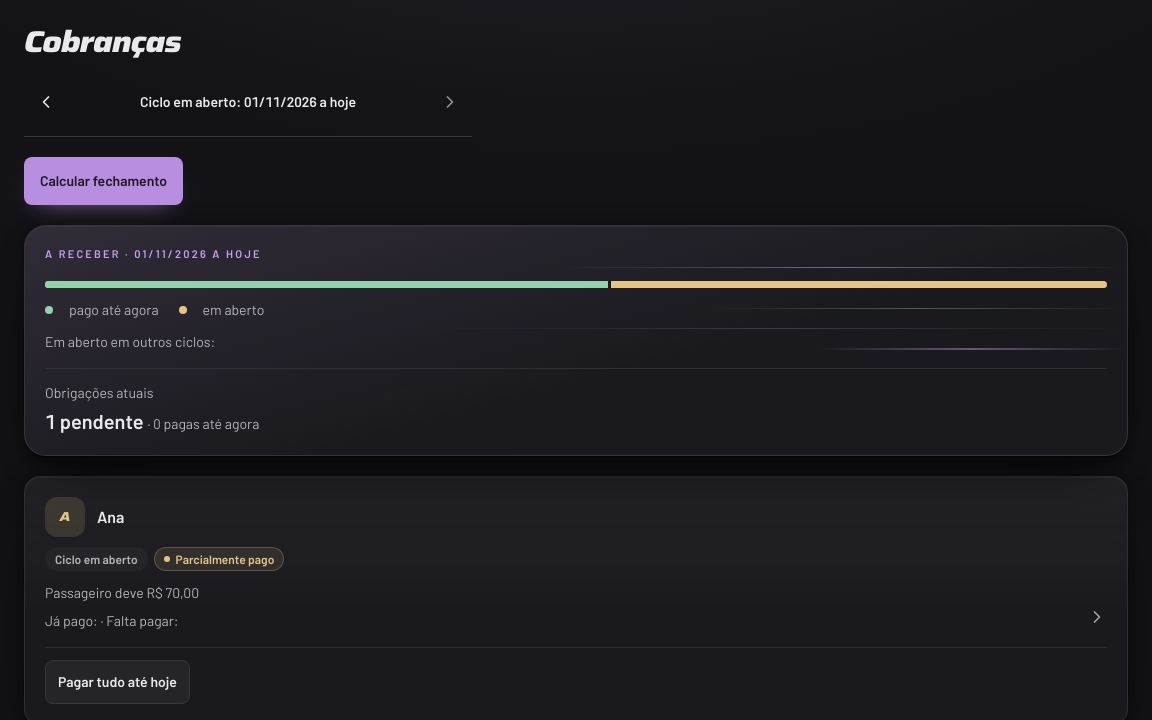
it: pay everything until today › a second click while the first is running does not send another payment
Click the button "Pagar tudo até hoje".
click(117, 682)  # box [45, 660, 190, 704]
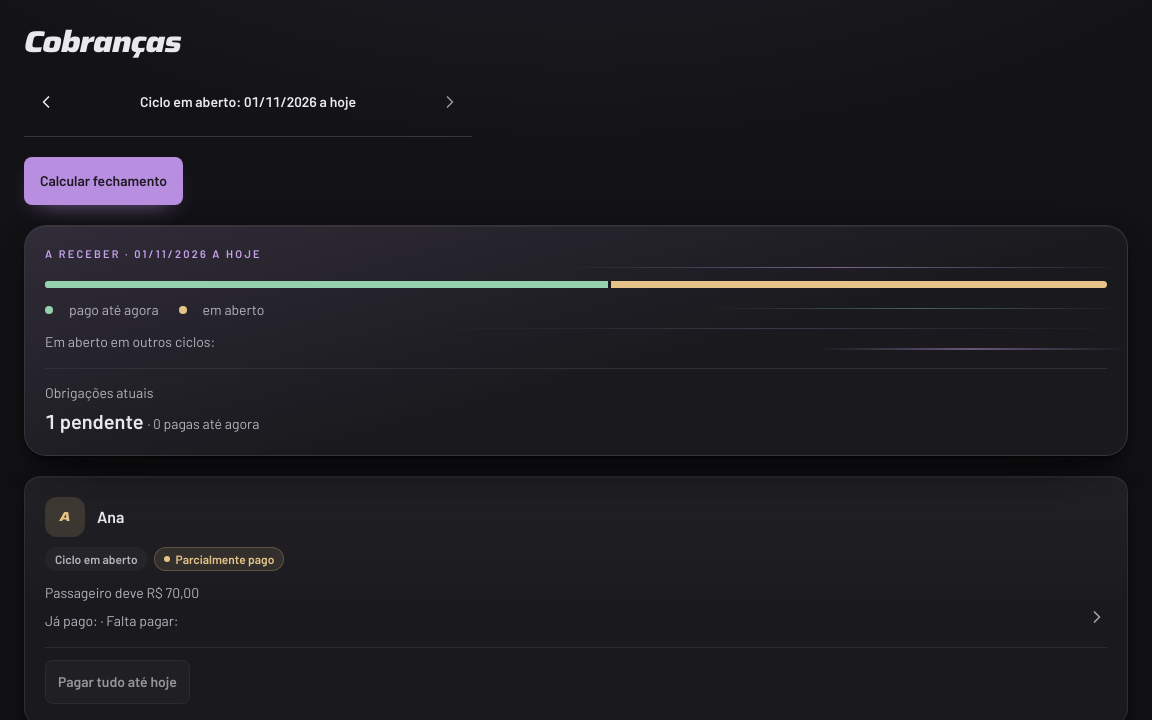
Click the button "Pagar tudo até hoje".
click(117, 682)  # box [45, 660, 190, 704]
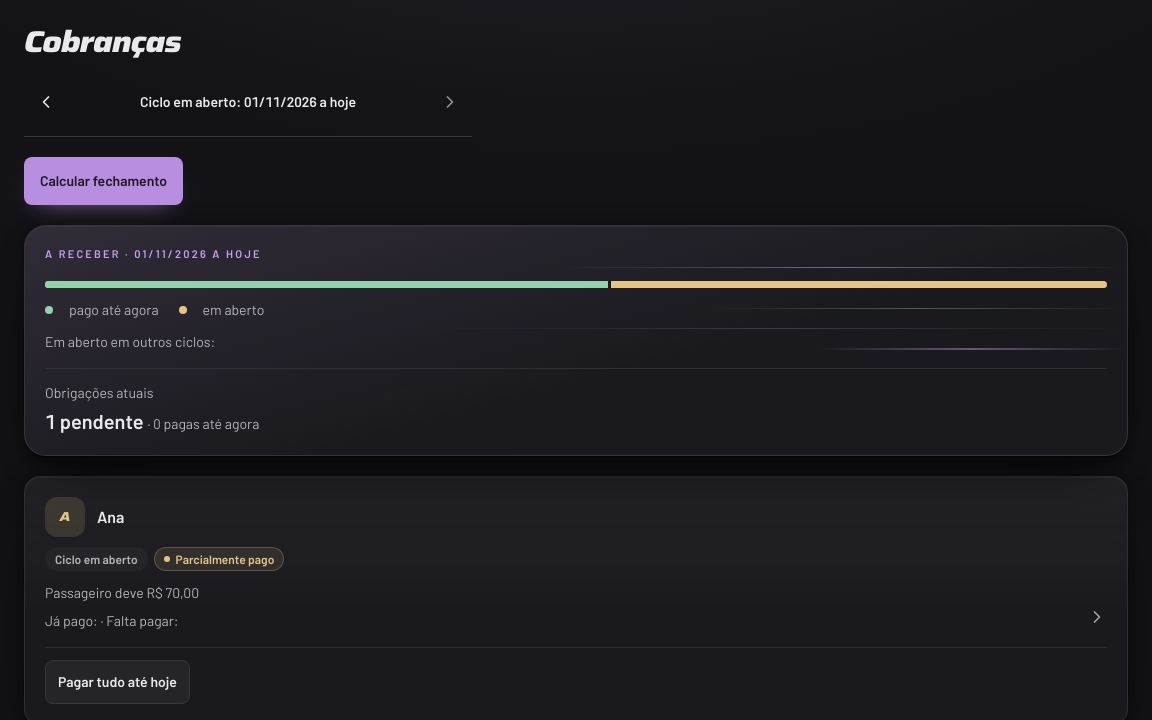
Now the button "Pagar tudo até hoje" is enabled, box [45, 660, 190, 704]
